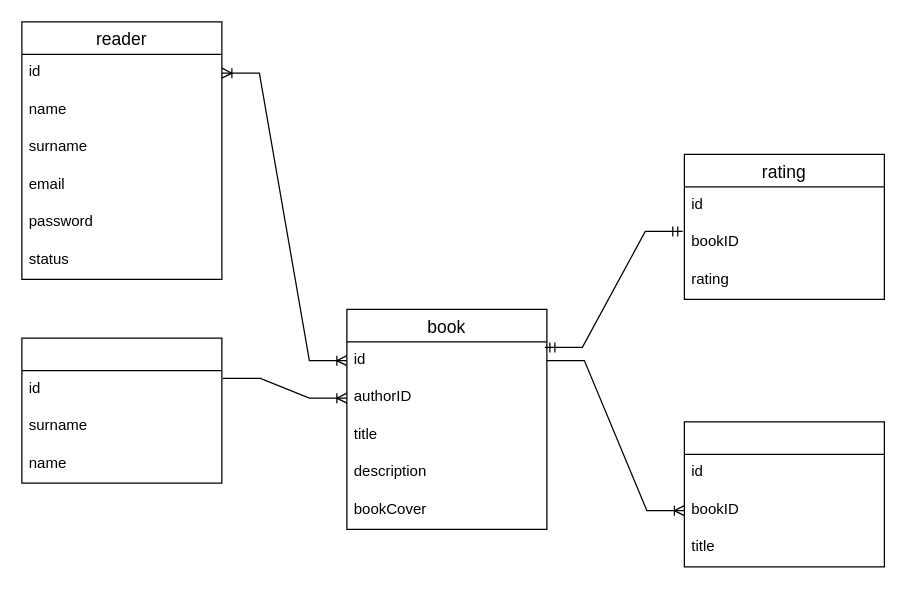
Image size: 906x593. Some labels were removed from this diagram. Each missing label, with the box of its shape:
author: (21, 337, 222, 483)
tag: (683, 421, 884, 567)
